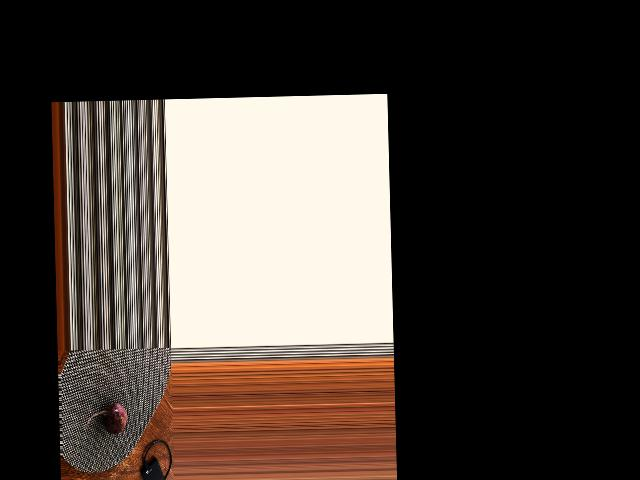beet: (85, 402, 126, 435)
